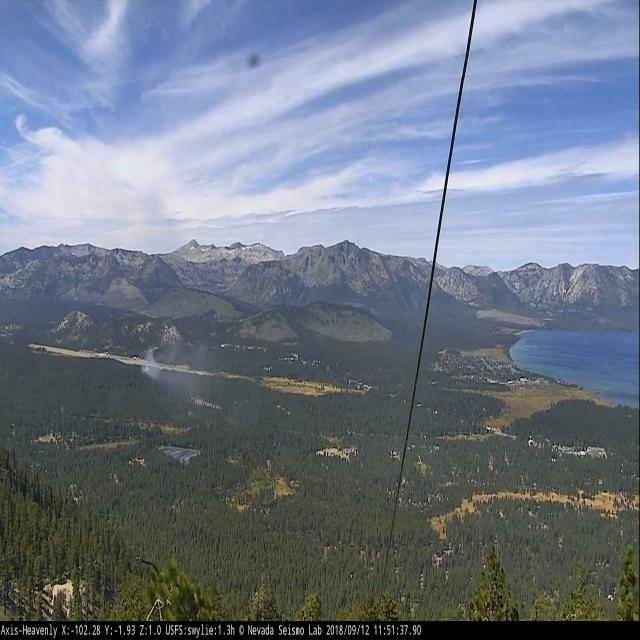smoke: (138, 350, 167, 375)
